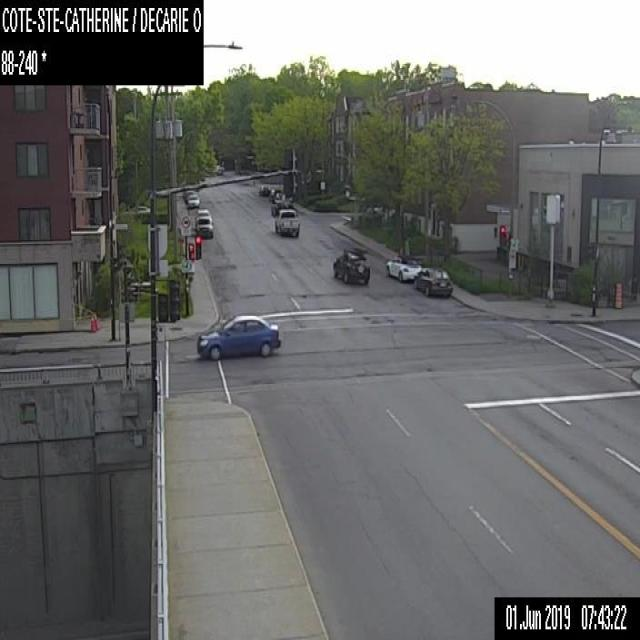construction: (614, 282, 621, 308)
vehicle: (195, 312, 281, 360), (332, 245, 371, 284), (412, 267, 453, 297), (385, 255, 422, 280), (273, 208, 299, 236), (195, 215, 212, 237), (270, 199, 293, 215), (187, 193, 199, 206), (268, 188, 280, 201), (184, 190, 196, 201), (258, 184, 269, 196), (281, 193, 292, 204), (196, 208, 210, 216), (275, 192, 282, 202)
